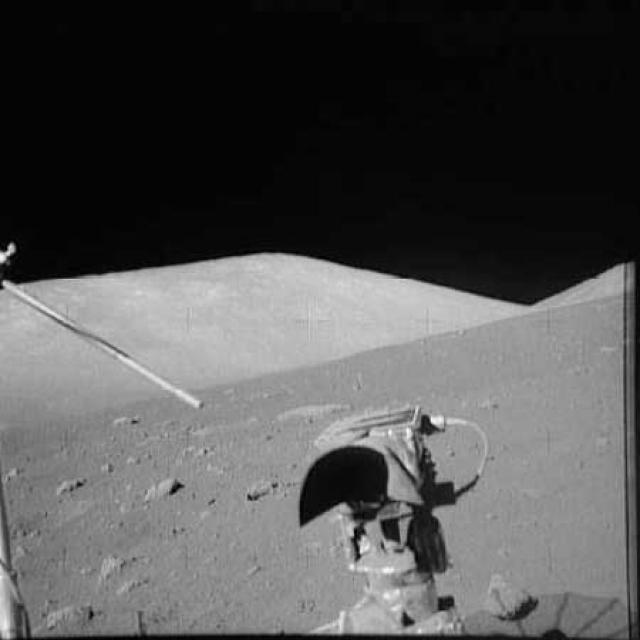artifact: (279, 396, 529, 638), (0, 236, 206, 421), (0, 426, 41, 638)
rock: (470, 558, 535, 621), (268, 397, 351, 432), (40, 595, 101, 633), (94, 544, 133, 584), (136, 472, 184, 502), (241, 470, 281, 503), (114, 573, 159, 602), (48, 467, 88, 498)
